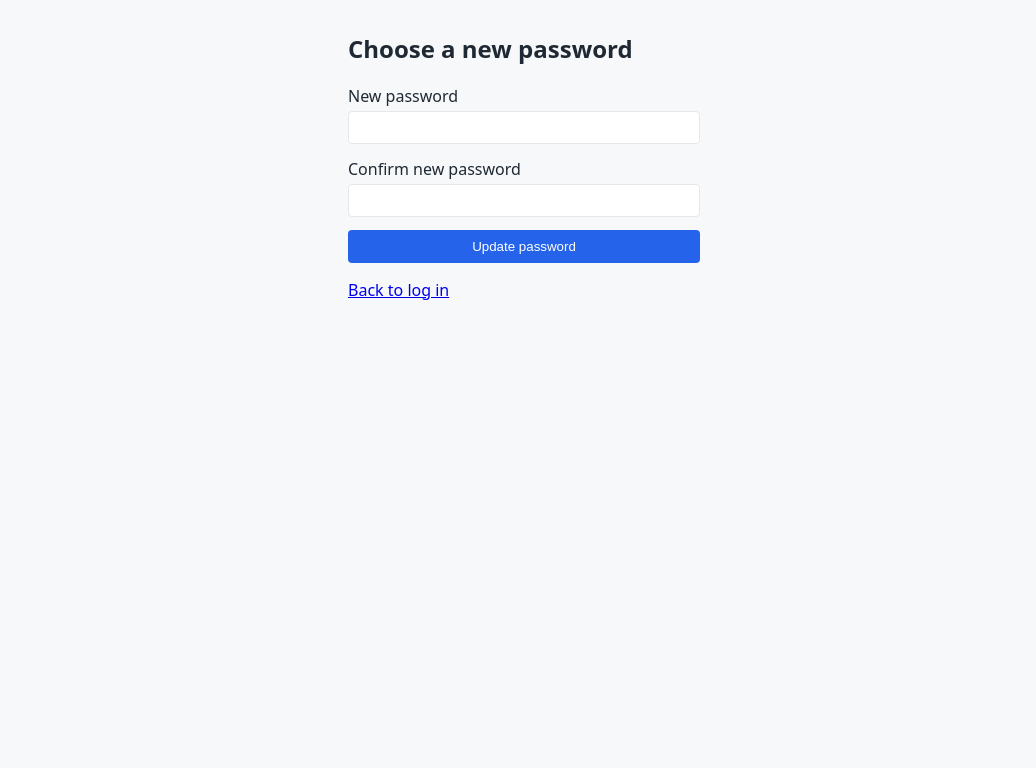
it: ResetPasswordPage › submits a valid new password with the token and routes to login (positive, AC-2)
Type "new-password1" into the password field labelled "New password" at (524, 127), box x1=348 y1=111 x2=700 y2=144
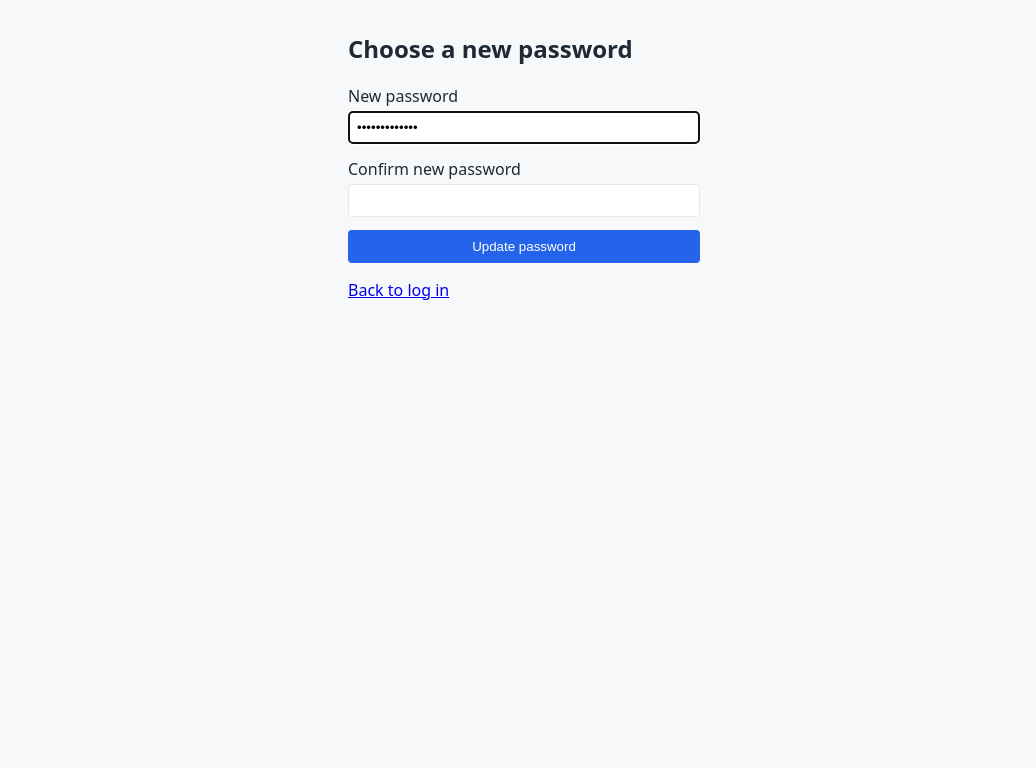
Type "new-password1" into the password field labelled "Confirm new password" at (524, 200), box x1=348 y1=184 x2=700 y2=216
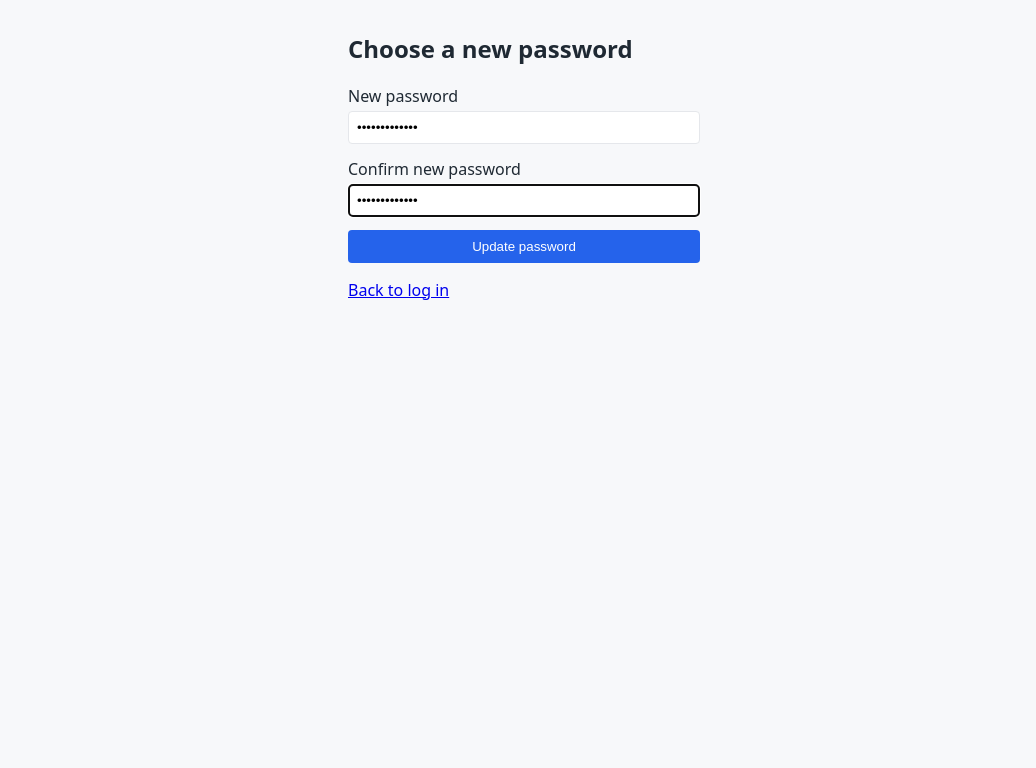
Click the button "Update password" at (524, 246), box x1=348 y1=230 x2=700 y2=263
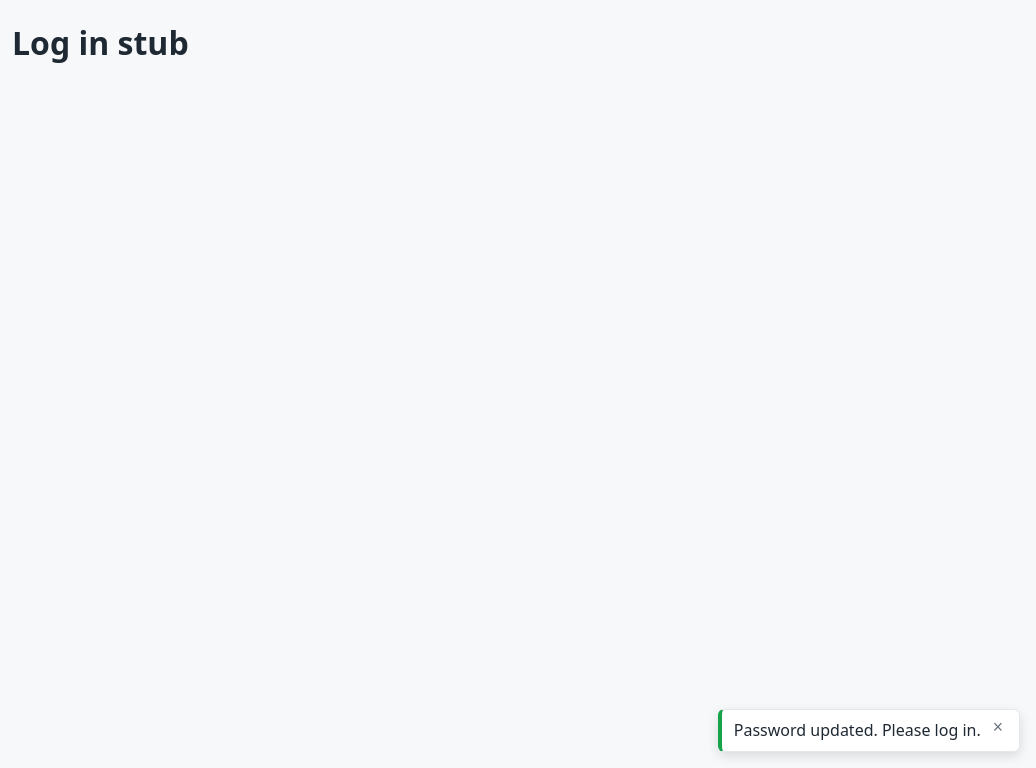
Check: the heading "Log in stub" is shown, box x1=12 y1=21 x2=189 y2=64
